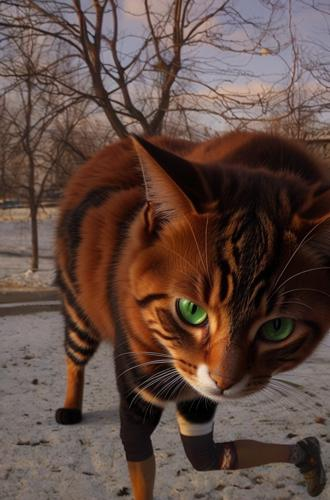cat: (50, 132, 330, 424)
person: (75, 163, 327, 500)
person/foot: (297, 436, 326, 497)
person/hand: (78, 279, 118, 304), (145, 361, 173, 386)
person/head: (113, 163, 165, 240)
